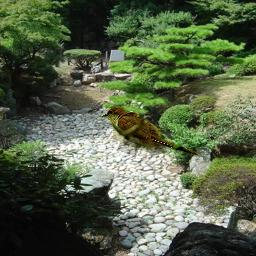Cuckoo: (101, 105, 201, 157)
